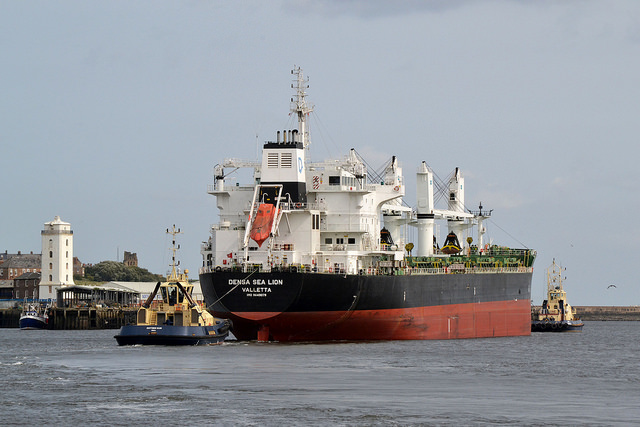bulk carrier: (198, 64, 533, 337)
fishing_boat: (15, 294, 47, 332)
tug_boat: (116, 226, 201, 348), (536, 260, 584, 329)
